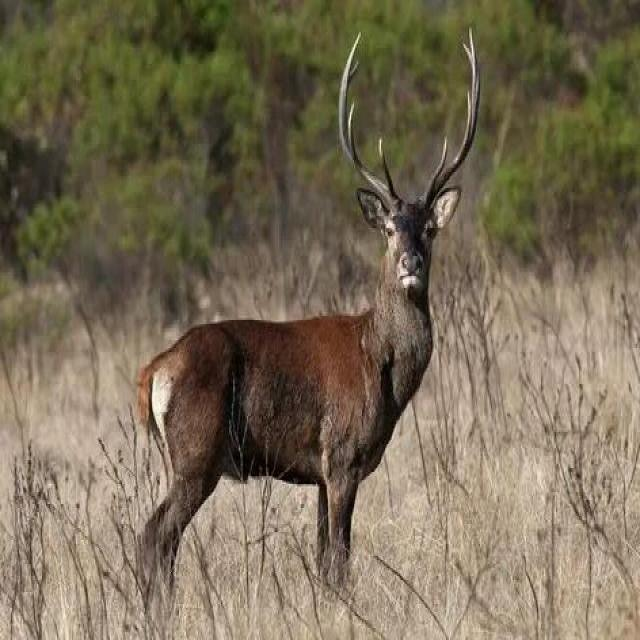deer: (130, 35, 482, 612)
